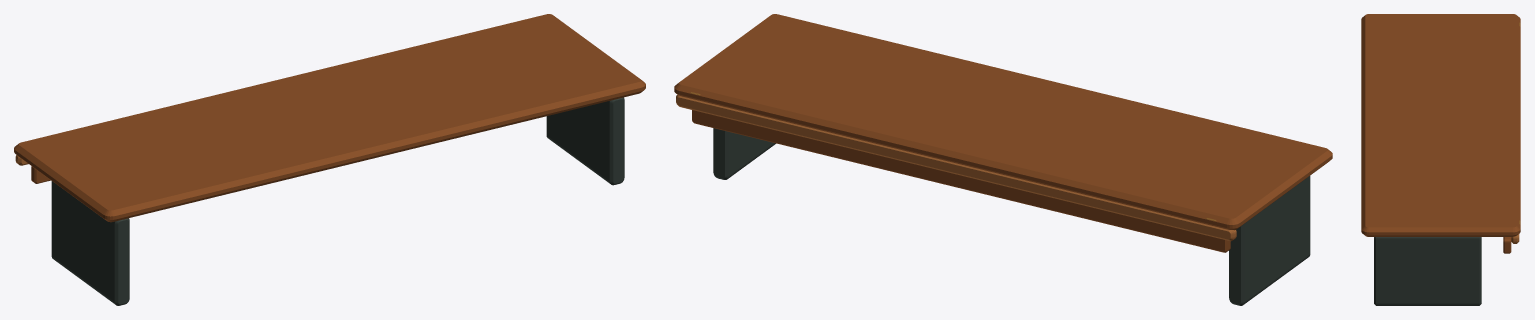
File: desk.obj
The picture shows the model from 3 angles, left to right: view 1: azimuth 30°, elevation 25°; view 2: azimuth 150°, elevation 25°; view 3: azimuth 270°, elevation 25°; orthographic projection. The views are drawn at different scales.
Visible parts, largest first — view 1: top, leg; view 2: top, leg, lower_apron, front_edge; view 3: top, leg, lower_apron.
Boxes of the visible parts, x1=… form: top: x1=14, y1=14, x2=645, y2=222; leg: x1=51, y1=97, x2=624, y2=305; top: x1=674, y1=14, x2=1332, y2=230; leg: x1=713, y1=128, x2=1310, y2=305; lower_apron: x1=692, y1=110, x2=1230, y2=252; front_edge: x1=676, y1=95, x2=1236, y2=241; top: x1=1361, y1=14, x2=1520, y2=236; leg: x1=1374, y1=237, x2=1481, y2=305; lower_apron: x1=1503, y1=237, x2=1511, y2=253.
Size of the model in its own units: 5.8 by 1.06 by 1.8.
